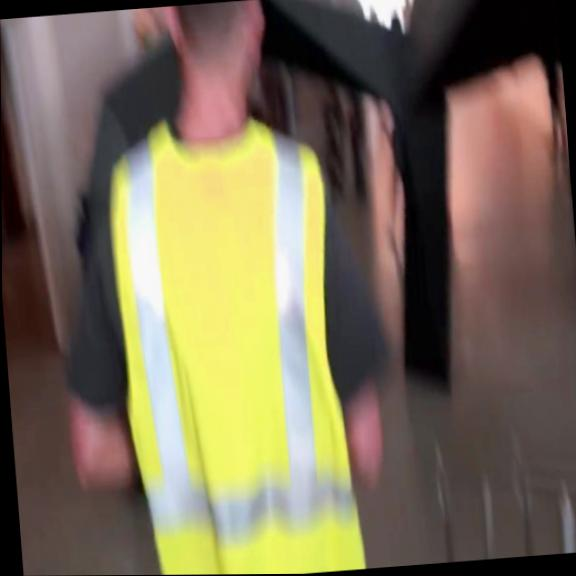safety_vest: (101, 105, 369, 575)
